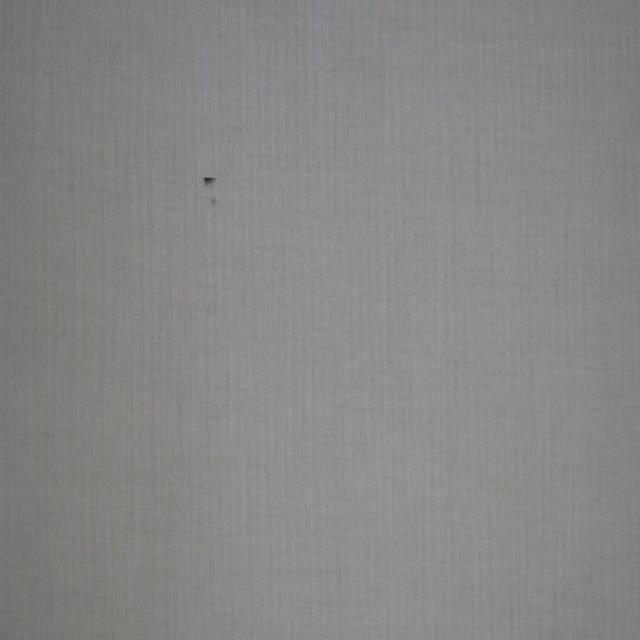dirty: (204, 175, 217, 188), (208, 198, 218, 207)
